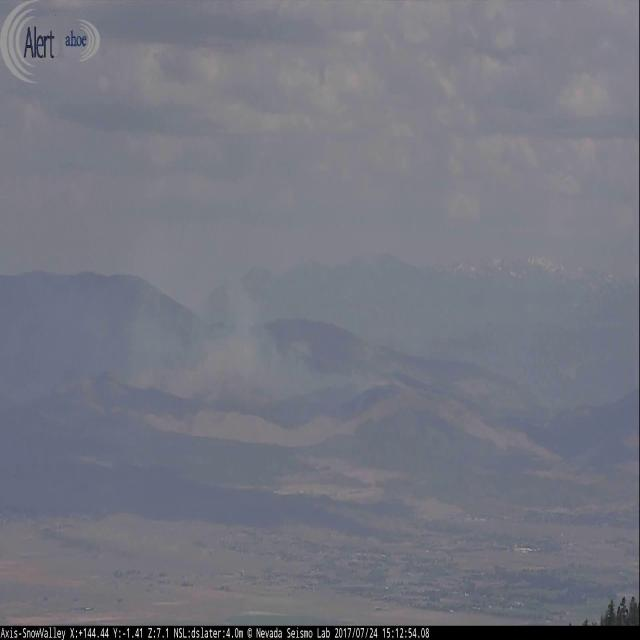smoke: (70, 237, 397, 398)
